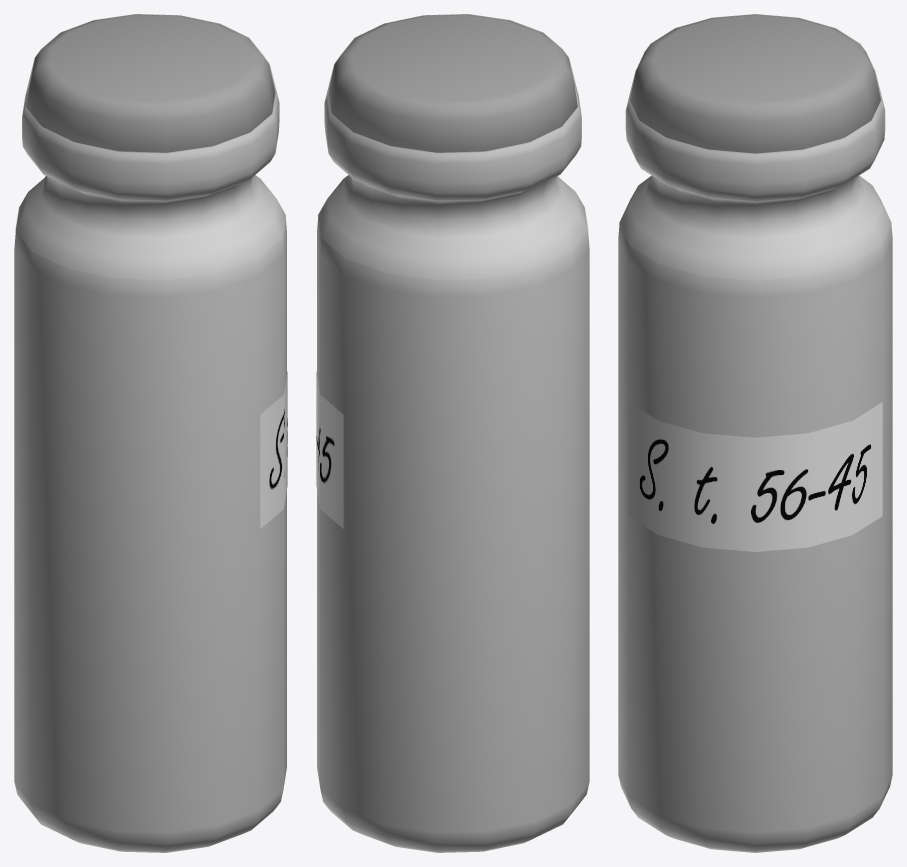
Rendered from jar_penicillin.fbx.
The picture shows the model from 3 angles, left to right: view 1: azimuth 30°, elevation 25°; view 2: azimuth 150°, elevation 25°; view 3: azimuth 270°, elevation 25°; orthographic projection.
Parts seen in each view (by area): view 1: jal, polyetilen, cap; view 2: jal, polyetilen, cap; view 3: jal, polyetilen, cap.
Part boxes in pixels (<box>): jal: <box>14,87,287,852</box>; polyetilen: <box>15,14,285,279</box>; cap: <box>26,14,275,152</box>; jal: <box>316,87,589,852</box>; polyetilen: <box>318,14,588,279</box>; cap: <box>328,14,577,152</box>; jal: <box>618,100,892,852</box>; polyetilen: <box>619,14,891,280</box>; cap: <box>630,14,880,153</box>.
Bounding box in the file's own units: 2 × 6.01 × 2.
